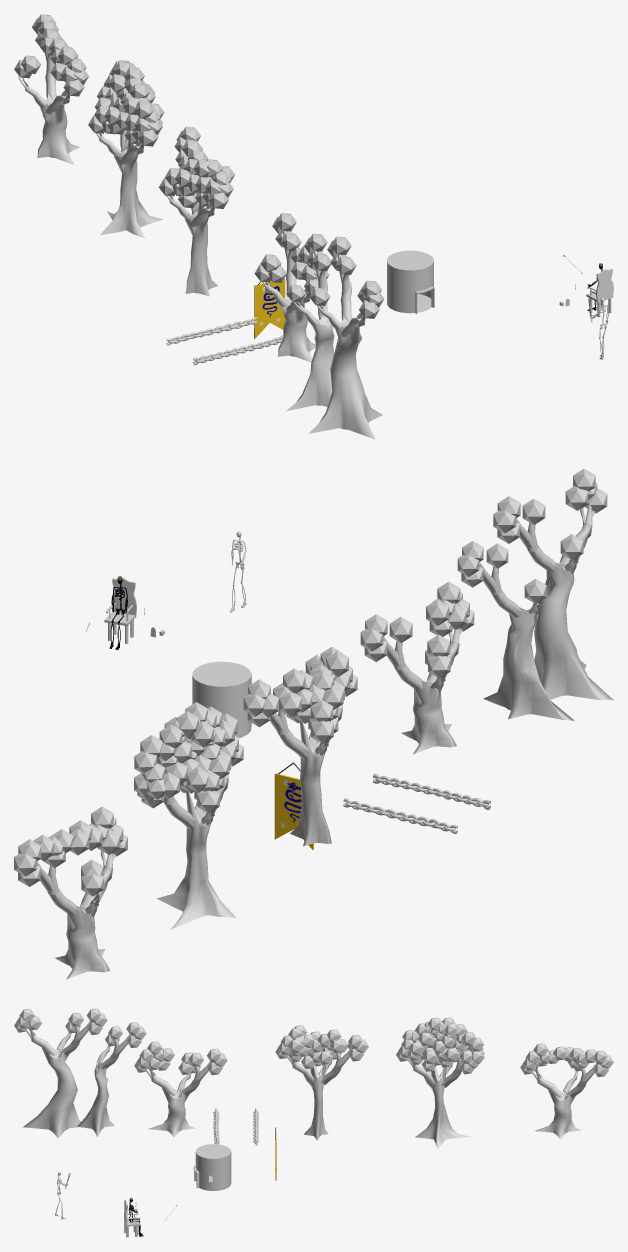
File: door.fbx
The picture shows the model from 3 angles, top to bottom: view 1: azimuth 30°, elevation 25°; view 2: azimuth 150°, elevation 25°; view 3: azimuth 270°, elevation 25°; orthographic projection. The views are drawn at different scales.
Visible parts, largest first — view 1: tree3, tree6, tree2, tree_4, tree1, tree5, pCylinder60, pCylinder59, chain_1, chain_2; view 2: tree3, tree6, tree2, tree_4, tree1, tree5, pCylinder60, pCylinder59, chain_2, chain_1; view 3: tree3, tree6, tree2, tree_4, tree1, tree5, pCylinder60.
Part boxes in pixels (x1=…): tree3: x1=88, y1=60, x2=164, y2=238; tree6: x1=308, y1=236, x2=384, y2=439; tree2: x1=158, y1=126, x2=234, y2=296; tree_4: x1=14, y1=14, x2=88, y2=165; tree1: x1=254, y1=213, x2=329, y2=362; tree5: x1=286, y1=233, x2=334, y2=411; pCylinder60: x1=387, y1=250, x2=434, y2=313; pCylinder59: x1=254, y1=278, x2=285, y2=338; chain_1: x1=166, y1=317, x2=257, y2=345; chain_2: x1=193, y1=335, x2=283, y2=365; tree3: x1=134, y1=702, x2=243, y2=929; tree6: x1=493, y1=468, x2=613, y2=700; tree2: x1=243, y1=647, x2=357, y2=846; tree_4: x1=14, y1=806, x2=127, y2=979; tree1: x1=360, y1=581, x2=474, y2=754; tree5: x1=457, y1=541, x2=574, y2=720; pCylinder60: x1=192, y1=661, x2=251, y2=738; pCylinder59: x1=274, y1=762, x2=313, y2=849; chain_2: x1=373, y1=773, x2=490, y2=809; chain_1: x1=343, y1=798, x2=457, y2=833; tree3: x1=396, y1=1017, x2=484, y2=1148; tree6: x1=14, y1=1008, x2=107, y2=1137; tree2: x1=275, y1=1025, x2=368, y2=1140; tree_4: x1=520, y1=1043, x2=613, y2=1138; tree1: x1=134, y1=1041, x2=227, y2=1136; tree5: x1=77, y1=1022, x2=146, y2=1136; pCylinder60: x1=193, y1=1144, x2=231, y2=1190.
Size of what is drawn, in the model's own units: 17.61 by 9.27 by 33.9.
